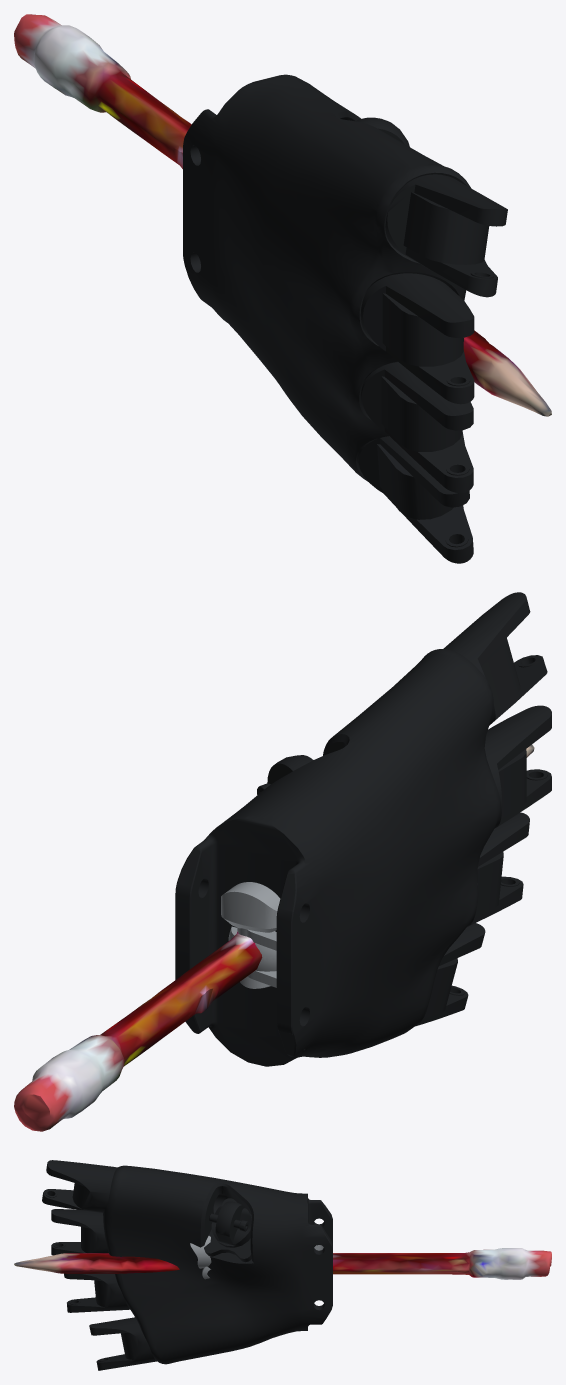
The model's file is pencil.glb.
The picture shows the model from 3 angles, top to bottom: view 1: azimuth 30°, elevation 25°; view 2: azimuth 150°, elevation 25°; view 3: azimuth 270°, elevation 25°; orthographic projection. The views are drawn at different scales.
Parts seen in each view (by area): view 1: b_0_0, o_0_0; view 2: b_0_0, o_0_0, b_6_7, b_18_22; view 3: b_0_0, o_0_0.
Boxes of the visible parts, x1,y1,x2,y2 form: b_0_0: (183, 74, 507, 563); o_0_0: (14, 14, 551, 416); b_0_0: (175, 592, 551, 1066); o_0_0: (14, 744, 534, 1131); b_6_7: (221, 884, 275, 932); b_18_22: (221, 887, 279, 931); b_0_0: (42, 1160, 332, 1370); o_0_0: (14, 1248, 551, 1279).
Size of the model in its own units: 0.0319 by 0.0811 by 0.1938.
